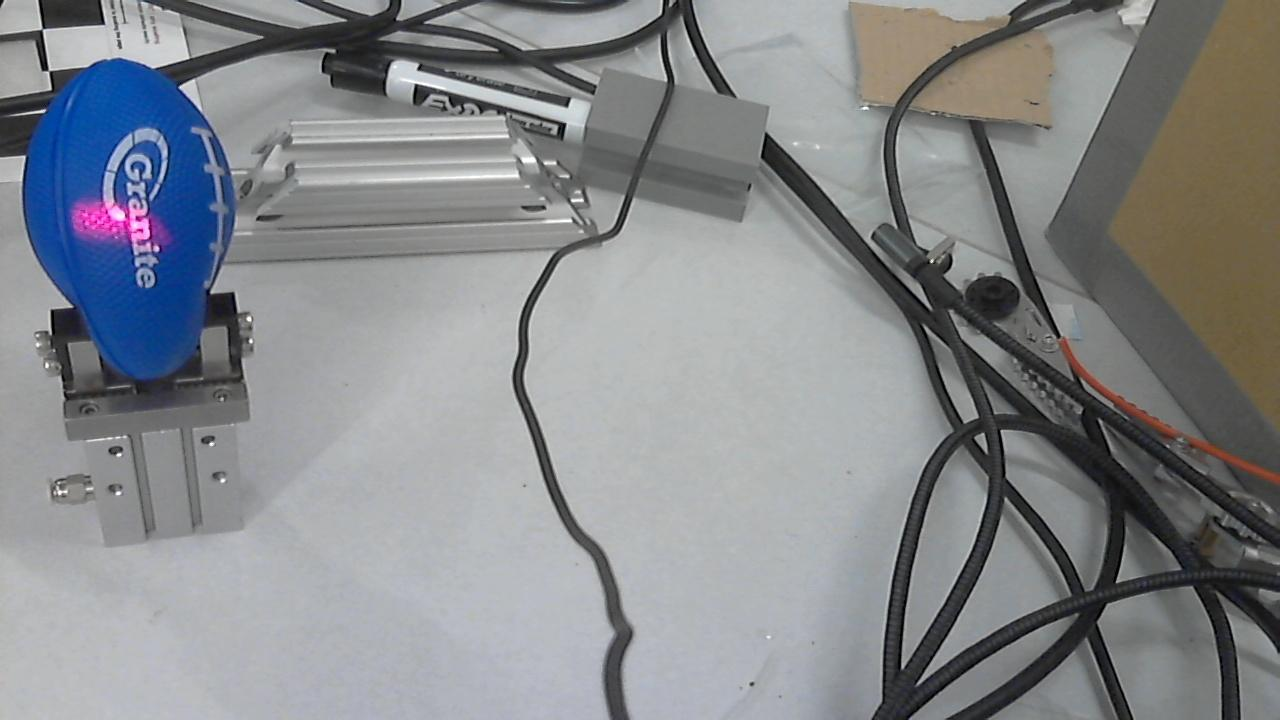Object toy football - Material foam - Color blue - Pdfname VT1ffZoLOnKv: (66, 186, 178, 259)
